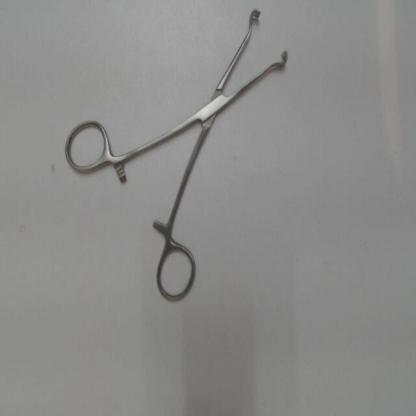Babcock Tissue Forceps: (60, 1, 294, 307)
